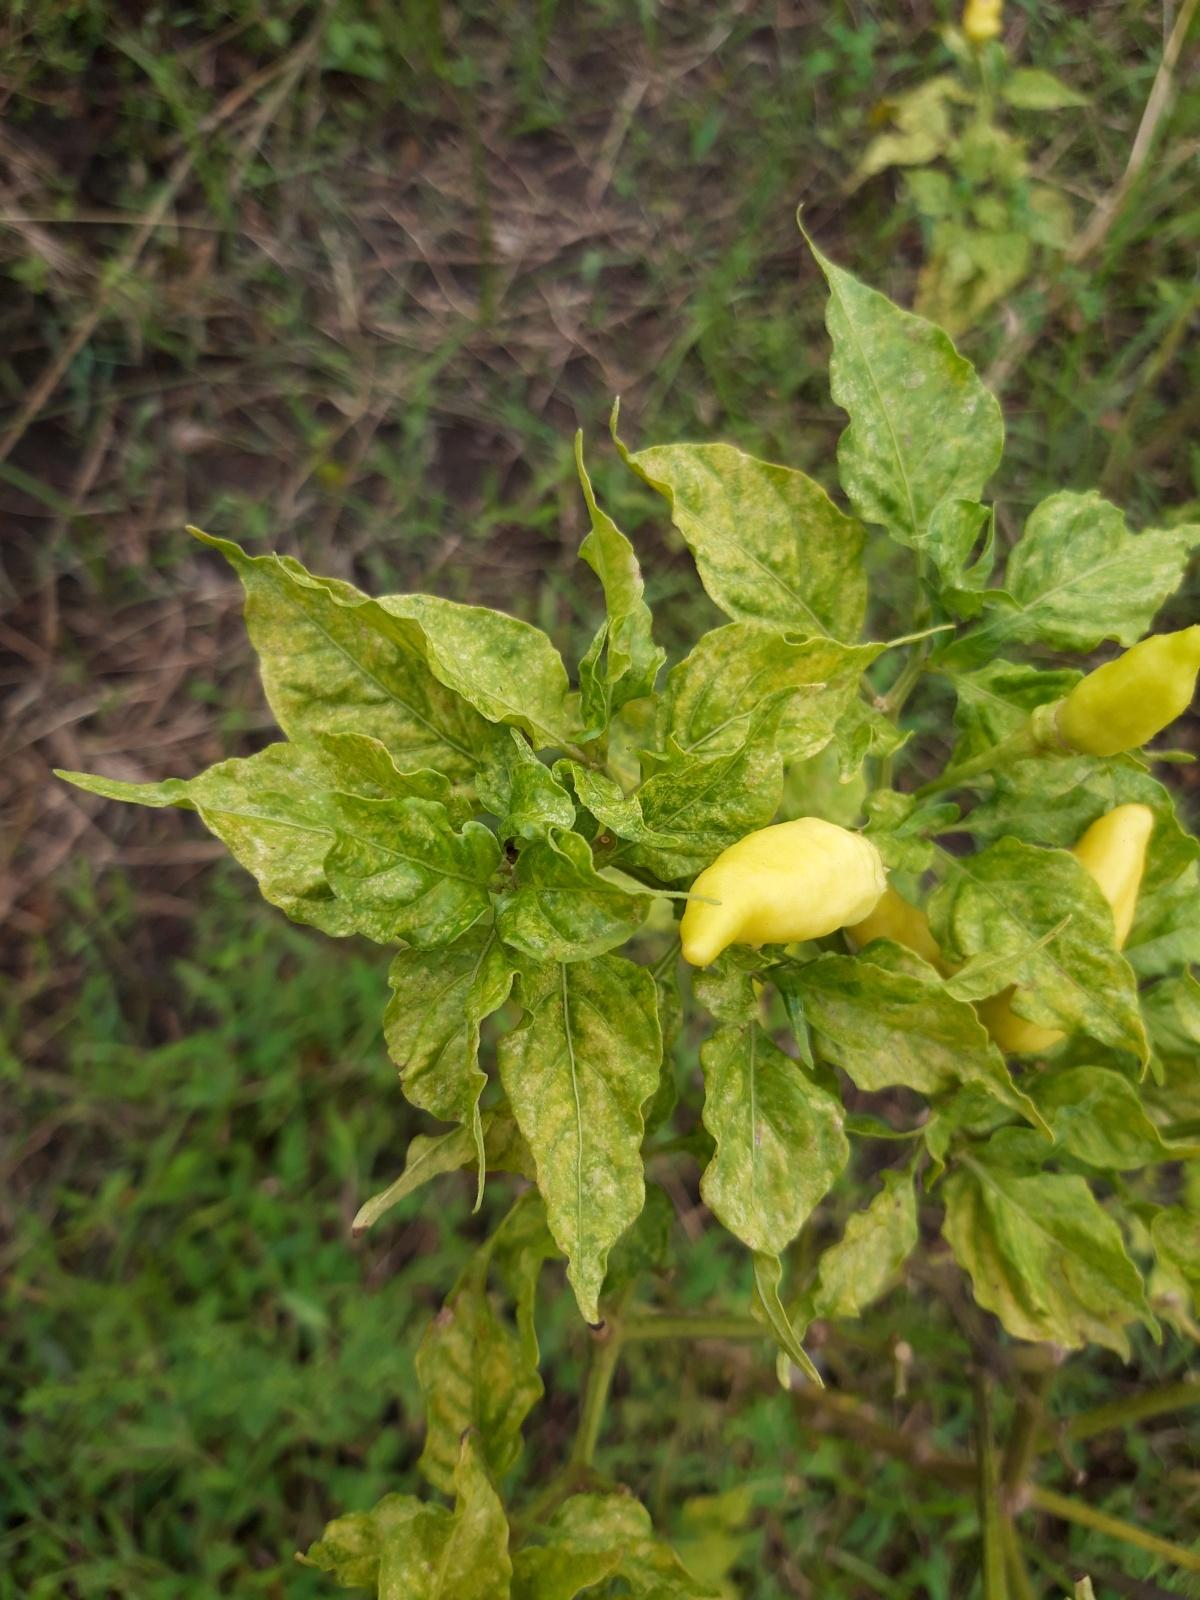cabai_normal: (681, 816, 885, 966), (1053, 624, 1200, 758), (1063, 804, 1155, 951)
